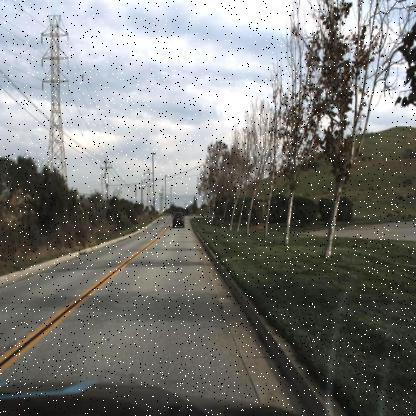car: (169, 207, 188, 234)
